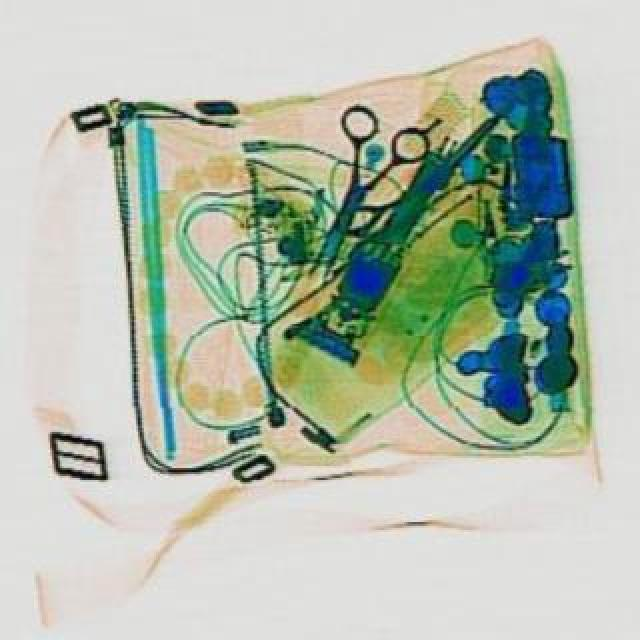pliers: (270, 96, 434, 288)
